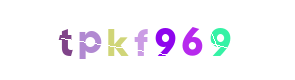6: (149, 0, 229, 80)
9: (125, 0, 205, 80), (180, 0, 260, 80)
F: (107, 0, 187, 80)
K: (75, 0, 155, 80)
P: (74, 0, 154, 80)
T: (25, 0, 105, 80)
